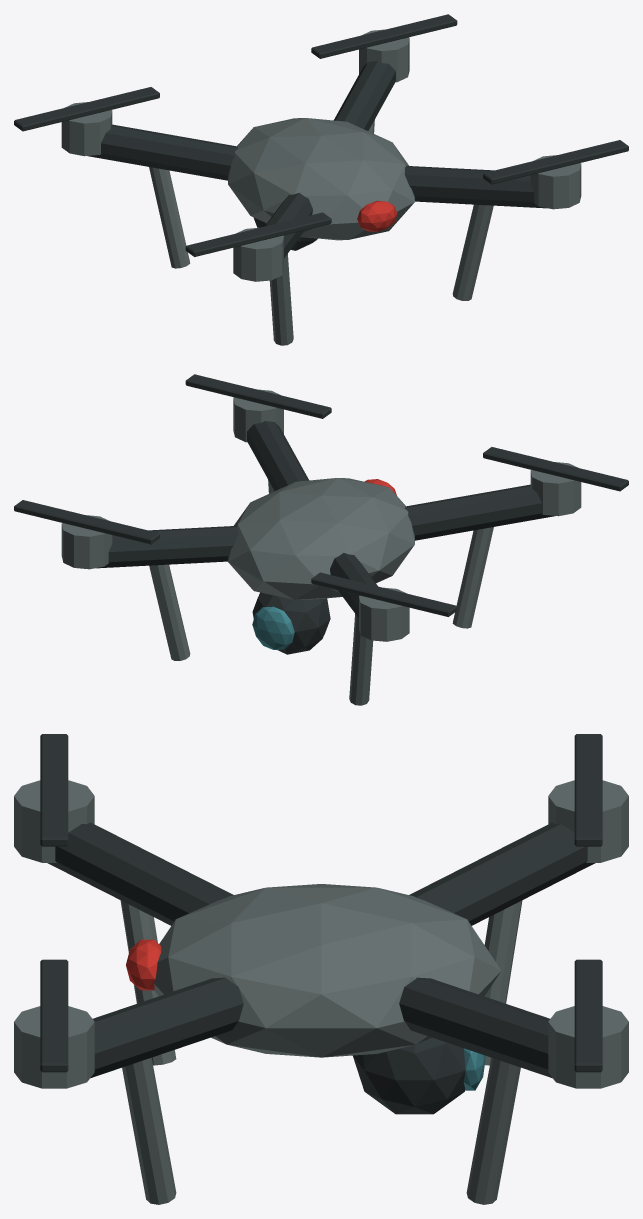
The model's file is drone.glb.
3 renders of one model, top to bottom at view 1: azimuth 30°, elevation 25°; view 2: azimuth 150°, elevation 25°; view 3: azimuth 270°, elevation 25°, orthographic. The views are drawn at different scales.
Visible parts, largest first — view 1: drone; view 2: drone; view 3: drone.
Part boxes in pixels (bbox=[...]): drone: bbox=[14, 14, 628, 345]; drone: bbox=[14, 374, 628, 705]; drone: bbox=[14, 734, 628, 1204].
Bounding box in the file's own units: 1.26 × 0.4133 × 0.99.
